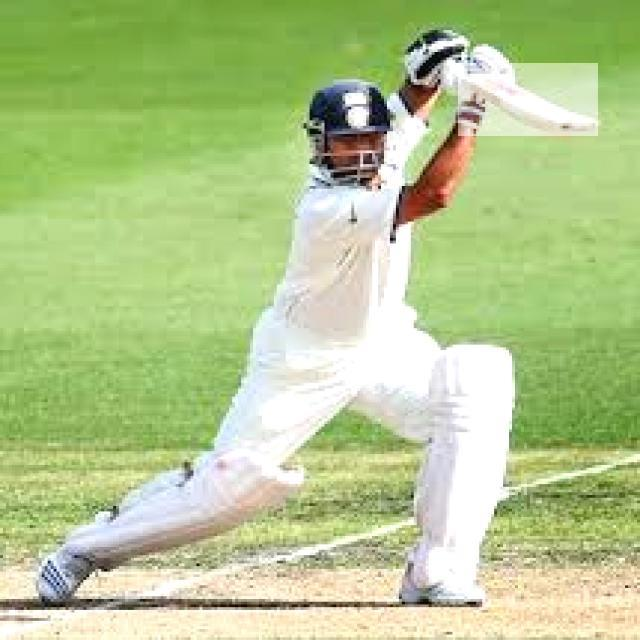bat: (459, 60, 600, 134)
toe: (560, 122, 597, 135)
